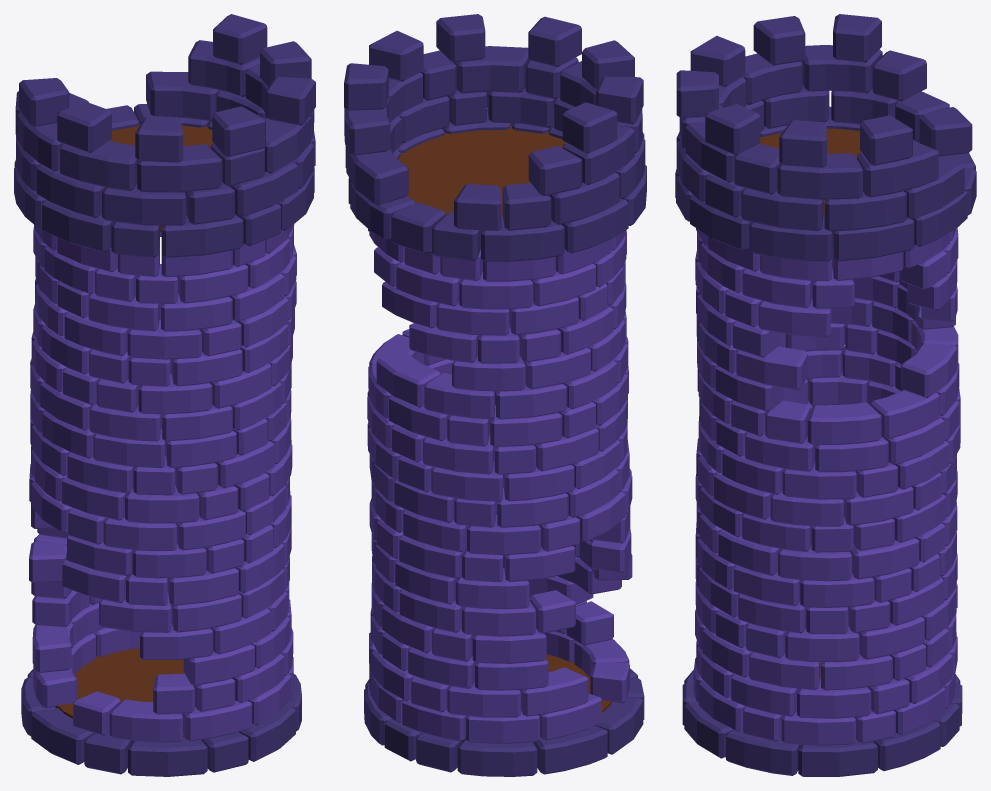
Rendered from brockenspire.fbx.
3 renders of one model, left to right at view 1: azimuth 30°, elevation 25°; view 2: azimuth 150°, elevation 25°; view 3: azimuth 270°, elevation 25°, orthographic.
Parts seen in each view (by area): view 1: Cube.077, Cube.076, Cube.056, Cube.075, Cube.057, Cube.065, Cube.071, Cube.069, Cube.064, Cube.072, Cube.066, Cube.068 (+19 smaller); view 2: Cube.076, Cube.077, Cube.075, Cube.056, Cube.057, Cube.068, Cube.069, Cube.058, Cylinder.016, Cube.067, Cube.064, Cube.066 (+19 smaller); view 3: Cube.077, Cube.076, Cube.068, Cube.075, Cube.067, Cube.056, Cube.066, Cube.058, Cube.063, Cube.059, Cube.060, Cube.069 (+18 smaller).
Boxes of the visible parts, x1,y1,x2,y2 form: Cube.077: (15, 40, 314, 192); Cube.076: (16, 71, 315, 225); Cube.056: (21, 669, 301, 776); Cube.075: (14, 104, 314, 257); Cube.057: (33, 627, 293, 742); Cube.065: (31, 414, 292, 523); Cube.071: (35, 278, 296, 359); Cube.069: (31, 303, 292, 414); Cube.064: (29, 441, 289, 550); Cube.072: (35, 232, 296, 331); Cube.066: (30, 374, 291, 495); Cube.068: (30, 359, 291, 441); Cube.076: (345, 87, 645, 230); Cube.077: (344, 46, 642, 196); Cube.075: (348, 109, 646, 261); Cube.056: (364, 668, 644, 776); Cube.057: (369, 631, 629, 743); Cube.068: (368, 329, 628, 446); Cube.069: (376, 336, 628, 419); Cube.058: (369, 598, 613, 717); Cylinder.016: (398, 125, 565, 216); Cube.067: (367, 359, 627, 474); Cube.064: (371, 434, 632, 555); Cube.066: (367, 391, 627, 501); Cube.077: (679, 45, 938, 199); Cube.076: (676, 85, 972, 231); Cube.068: (697, 323, 959, 444); Cube.075: (675, 106, 976, 261); Cube.067: (699, 346, 960, 472); Cube.056: (682, 669, 962, 776); Cube.066: (698, 370, 960, 499); Cube.058: (696, 632, 957, 718); Cube.063: (696, 501, 957, 581); Cube.059: (695, 609, 956, 690); Cube.060: (695, 581, 957, 662); Cube.069: (697, 298, 958, 411).
Bounding box in the file's own units: 1578 × 3711 × 1564.
